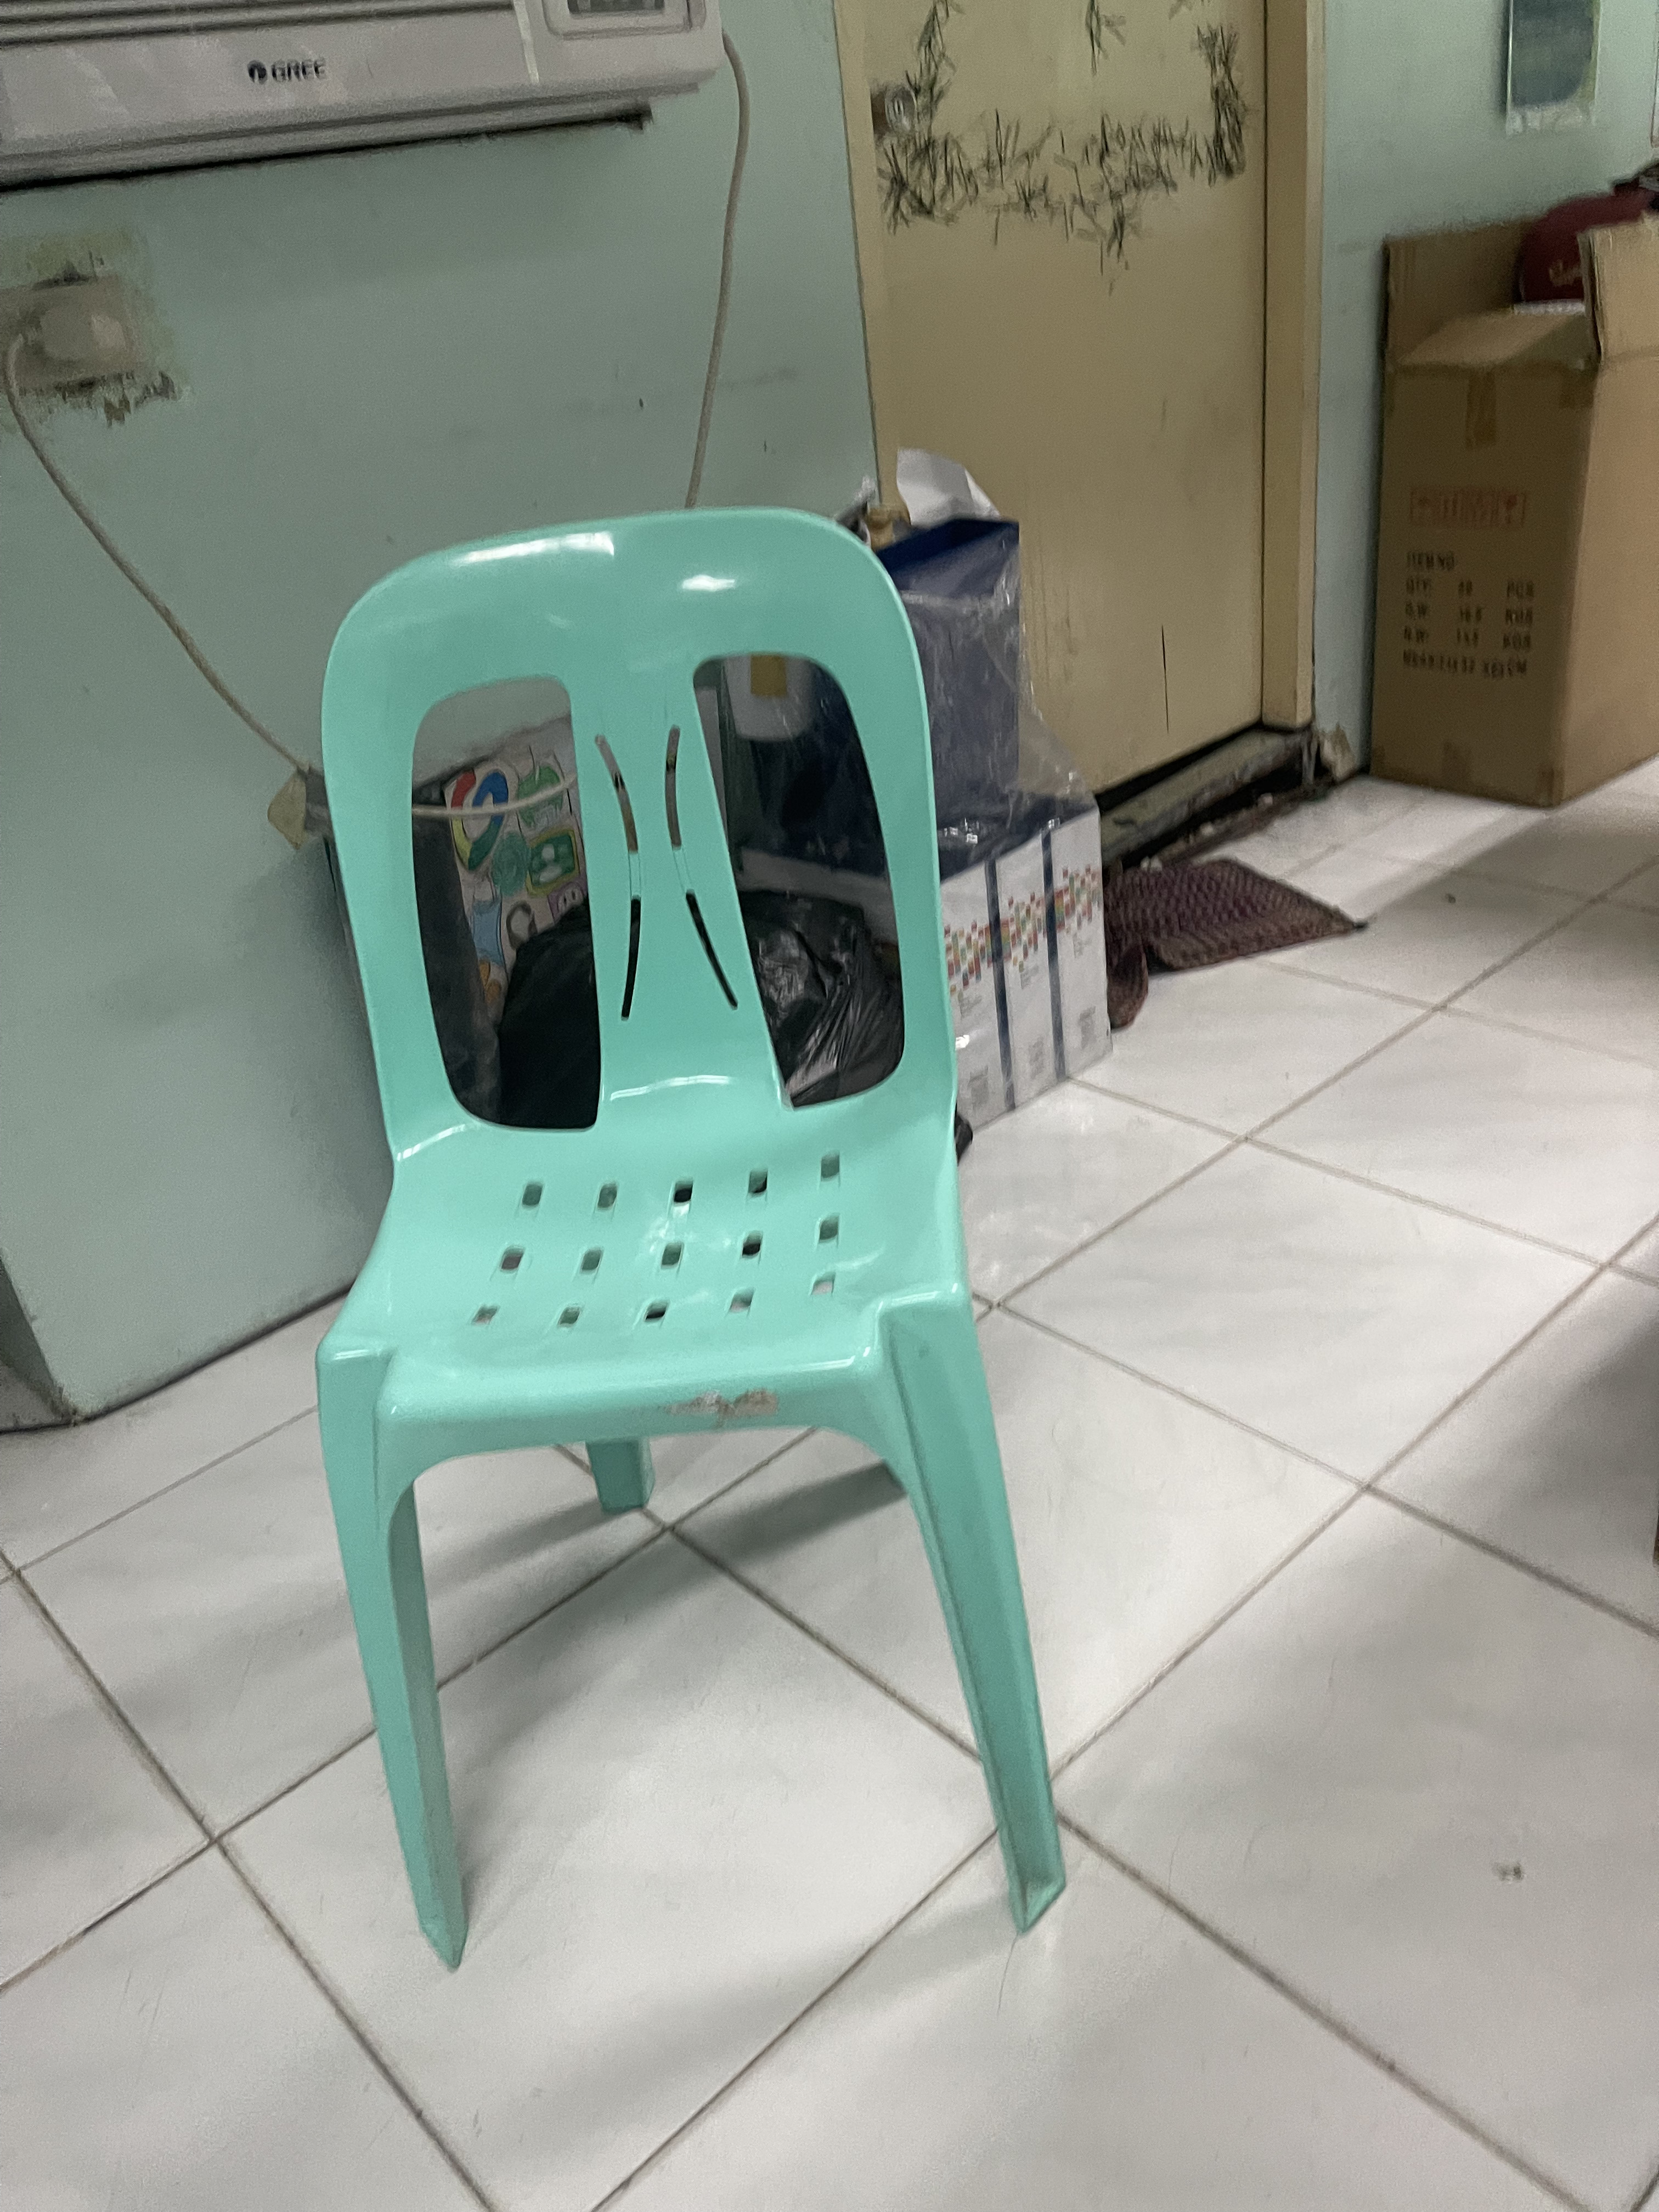chair2: (305, 503, 1068, 1968)
